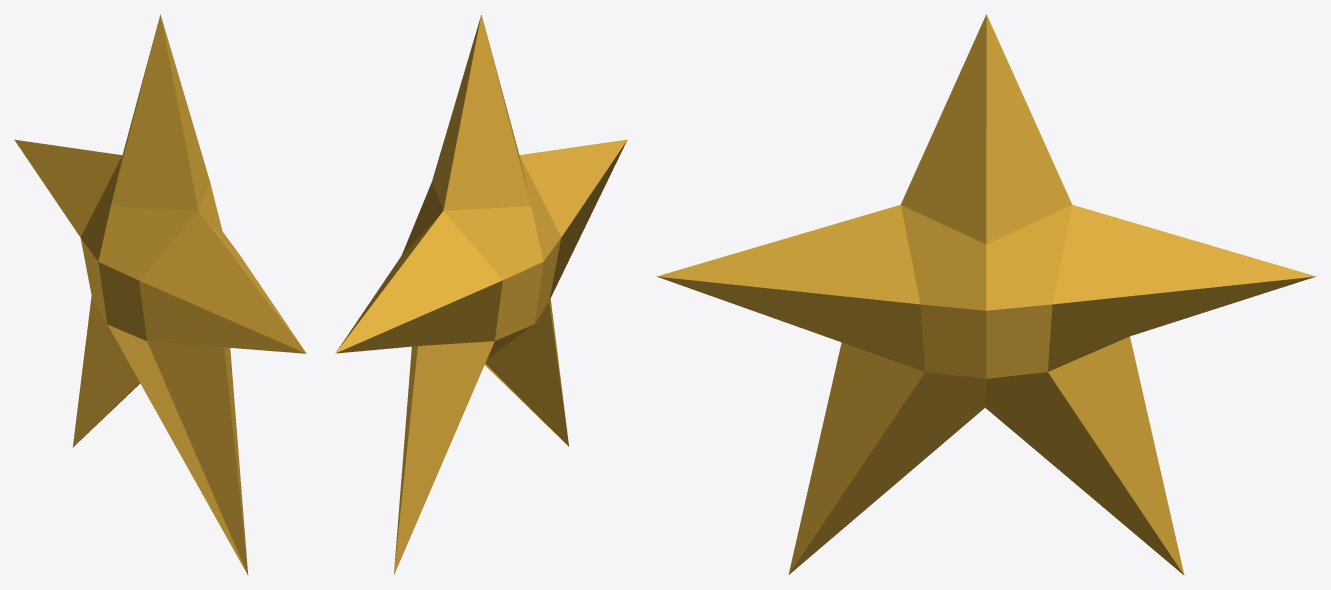
The model's file is star.glb.
3 renders of one model, left to right at view 1: azimuth 30°, elevation 25°; view 2: azimuth 150°, elevation 25°; view 3: azimuth 270°, elevation 25°, orthographic. The views are drawn at different scales.
Visible parts, largest first — view 1: star_02; view 2: star_02; view 3: star_02.
Boxes of the visible parts, left/top/right/bottom form: star_02: left=14, top=14, right=306, bottom=575; star_02: left=335, top=14, right=627, bottom=575; star_02: left=657, top=14, right=1315, bottom=575.
Bounding box in the file's own units: 245 × 939 × 1000.
